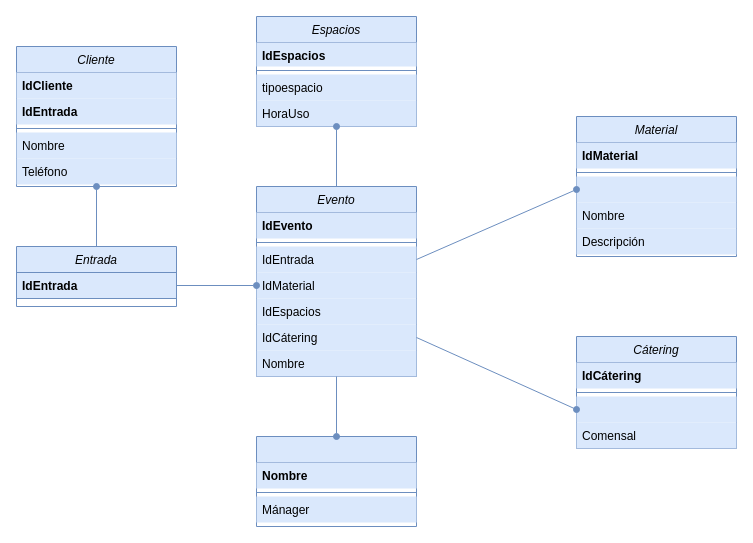
Some shapes in this 753 by 543 pixel diagram are drawn without their labels. Each missing label, with the box of its shape:
Artista: (256, 436, 416, 526)
Comida: (576, 396, 736, 422)
TipoMaterial: (576, 176, 736, 202)
